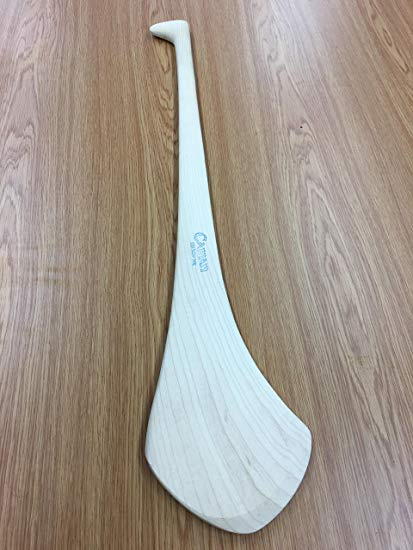hurley: (143, 20, 320, 536)
